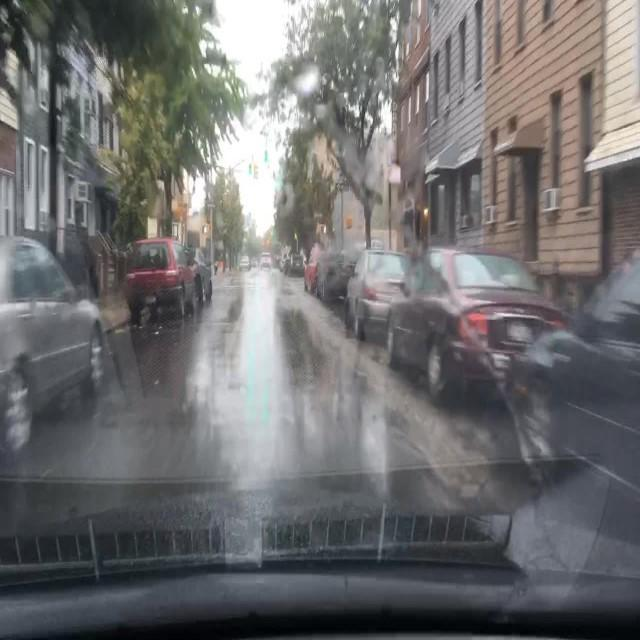normal: (385, 247, 573, 403), (0, 234, 104, 464), (127, 237, 201, 324), (343, 248, 410, 342), (318, 248, 363, 304)
